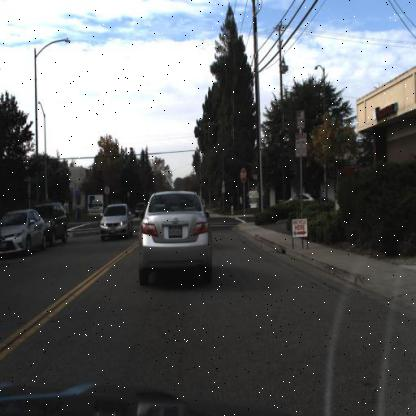car: (138, 184, 214, 284), (0, 208, 47, 253), (40, 199, 68, 248), (100, 200, 132, 240), (45, 202, 68, 244)
